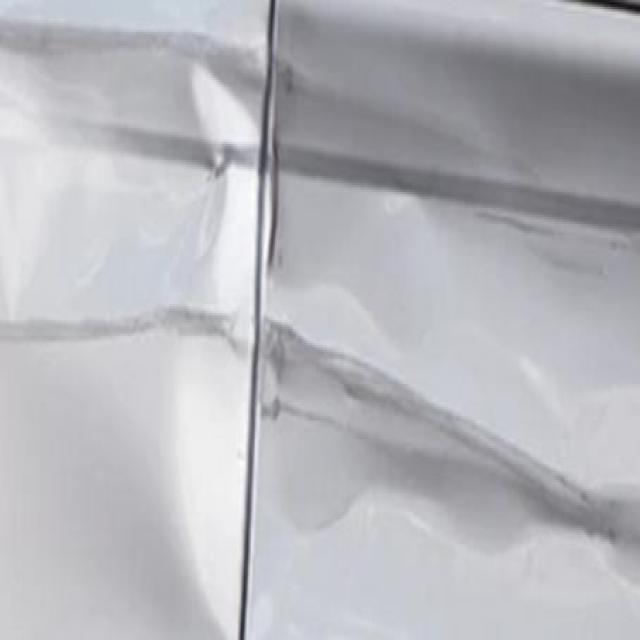dent: (152, 10, 358, 429)
